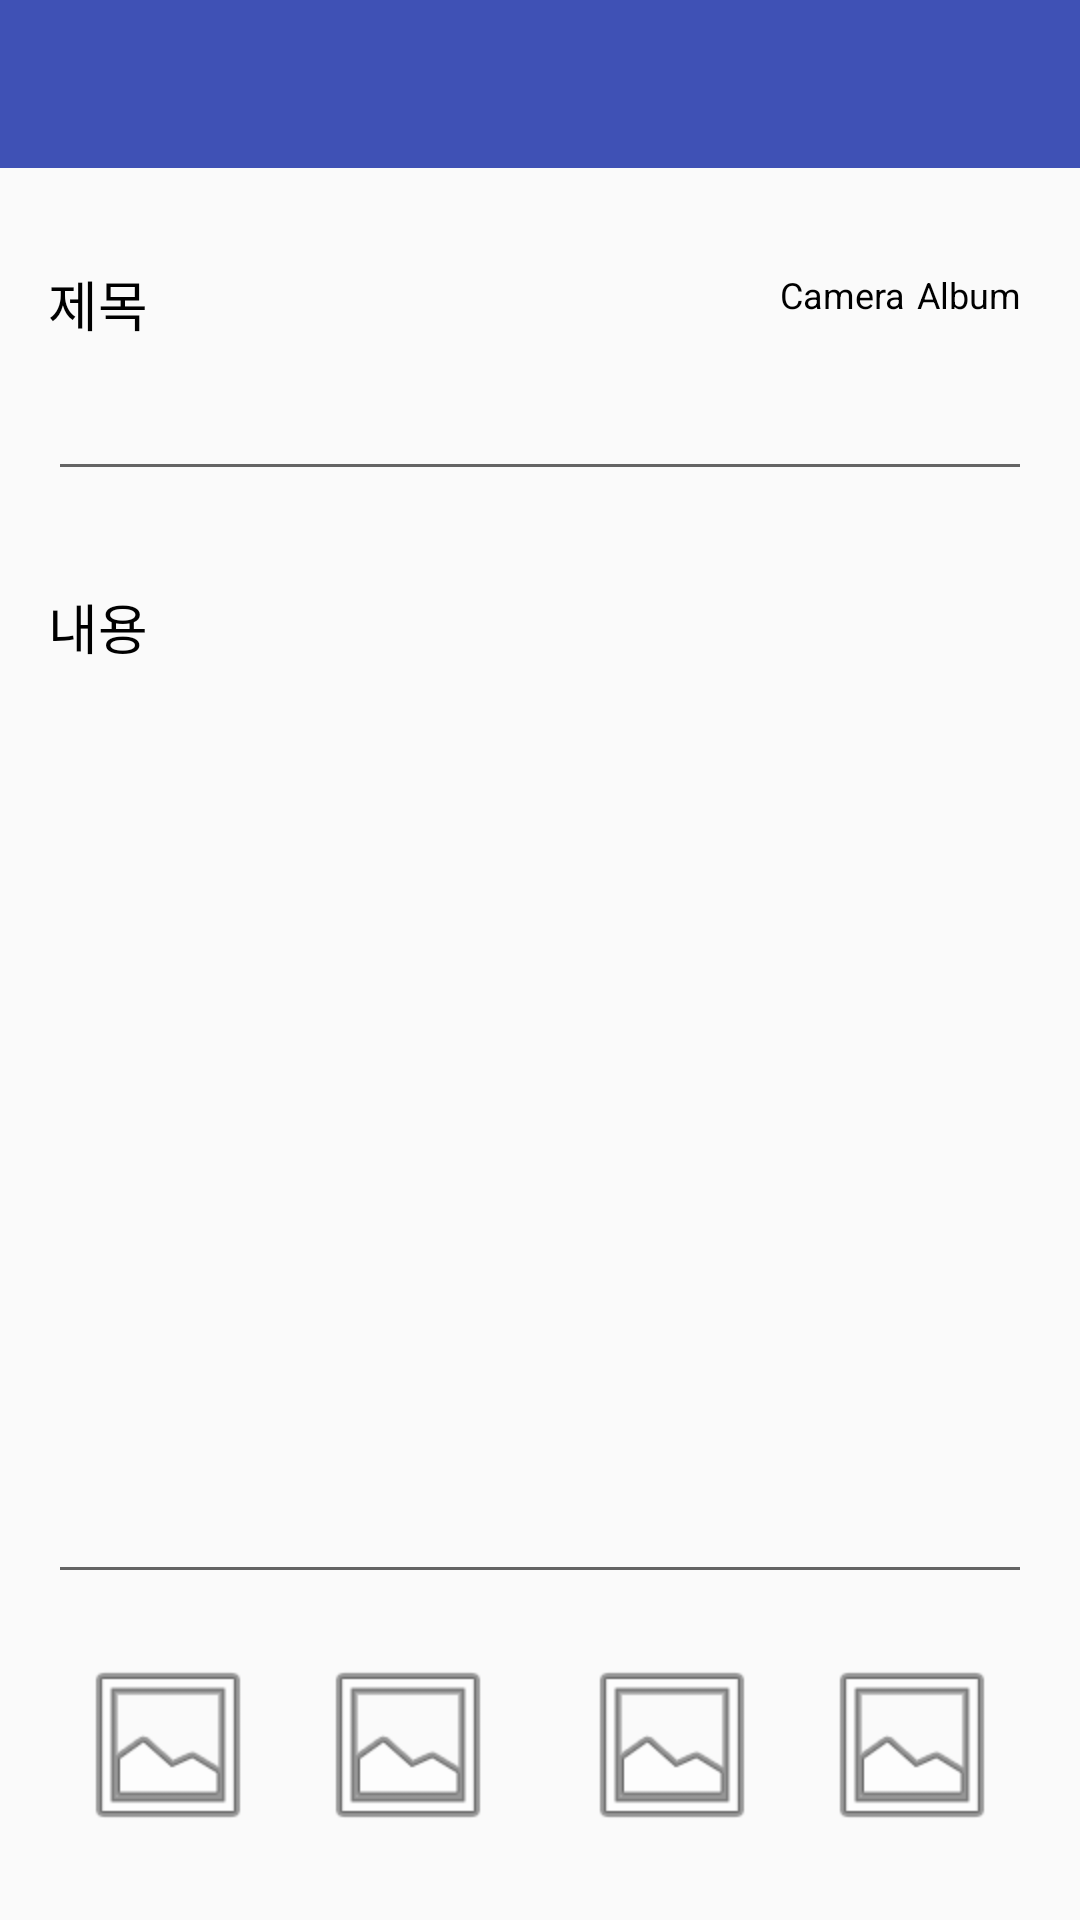

Where to tap for icons on this 1080 × 1920 app screen, as (x,y):
gallery: (168,1745), (408,1745), (672,1745), (912,1745)
